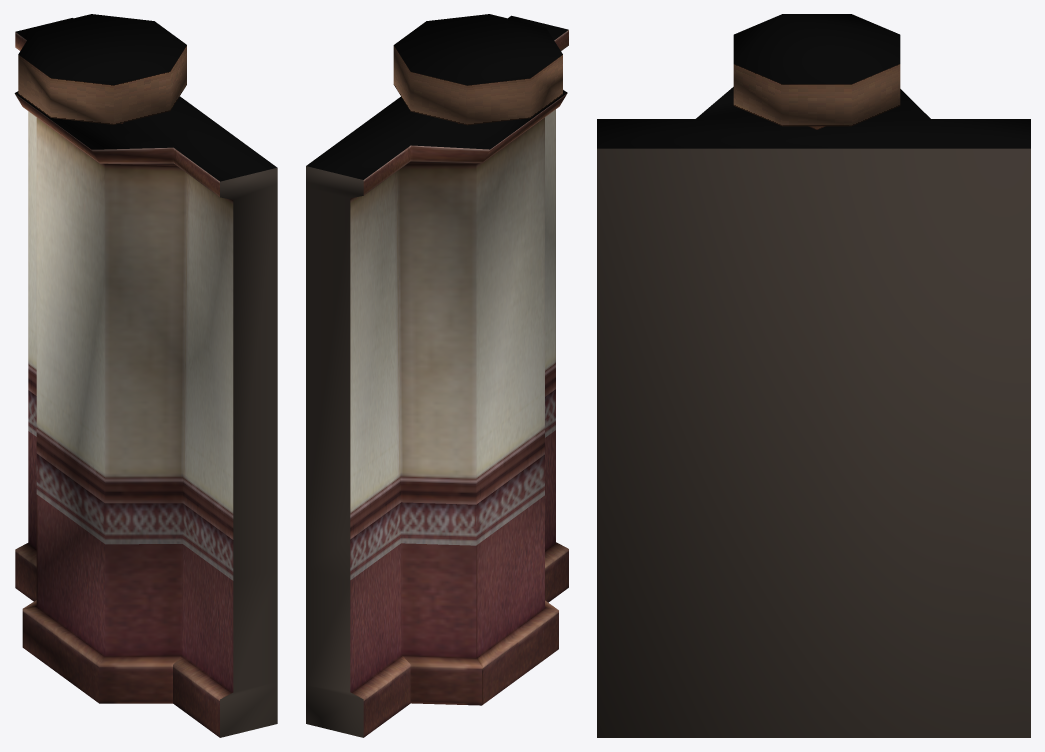
File: a_SCwall05e.glb
3 views of the same model, side by side, from view 1: azimuth 30°, elevation 25°; view 2: azimuth 150°, elevation 25°; view 3: azimuth 270°, elevation 25° (orthographic). The views are drawn at different scales.
Visible parts, largest first — view 1: a_SCwall05e; view 2: a_SCwall05e; view 3: a_SCwall05e.
Part boxes in pixels (x1,y1,x2,y2): a_SCwall05e: (14, 14, 277, 737); a_SCwall05e: (306, 14, 568, 737); a_SCwall05e: (597, 14, 1030, 737).
Size of the model in its own units: 0.7847 by 3.32 by 2.
2 materials, 2 textured.
